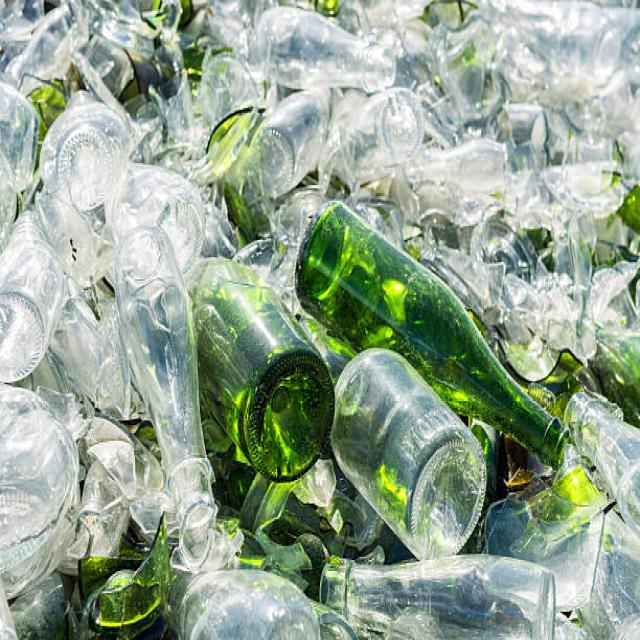glass: (7, 8, 631, 626)
